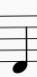D: (11, 8, 30, 76)
